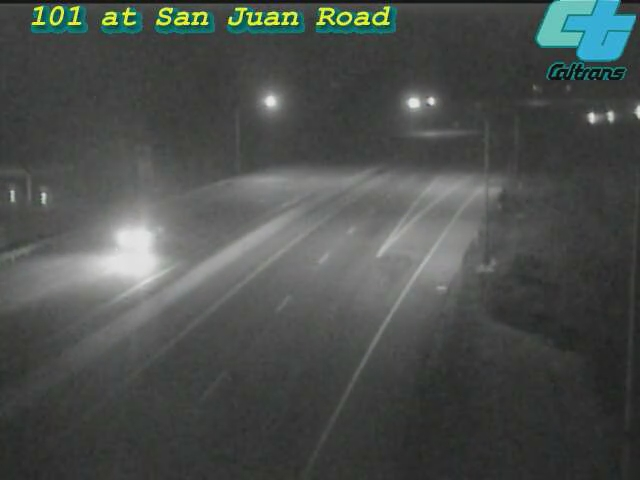vehicle: (94, 202, 174, 282), (587, 90, 637, 140), (568, 93, 618, 143), (613, 87, 640, 137)
